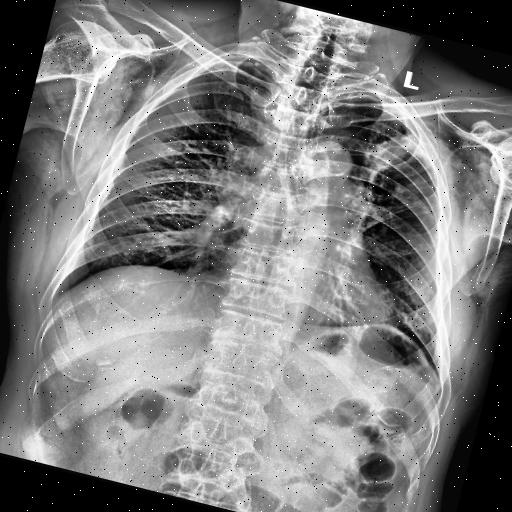0- Aortic enlargement: (293, 137, 357, 195), (293, 134, 357, 191), (308, 137, 356, 178)
11- Pleural thickening: (360, 108, 440, 190), (388, 106, 446, 164), (392, 110, 444, 162), (346, 85, 394, 103)
13- Pulmonary fibrosis: (356, 161, 438, 249), (351, 122, 432, 208), (358, 122, 418, 204)
2- Calcification: (331, 164, 349, 180)
